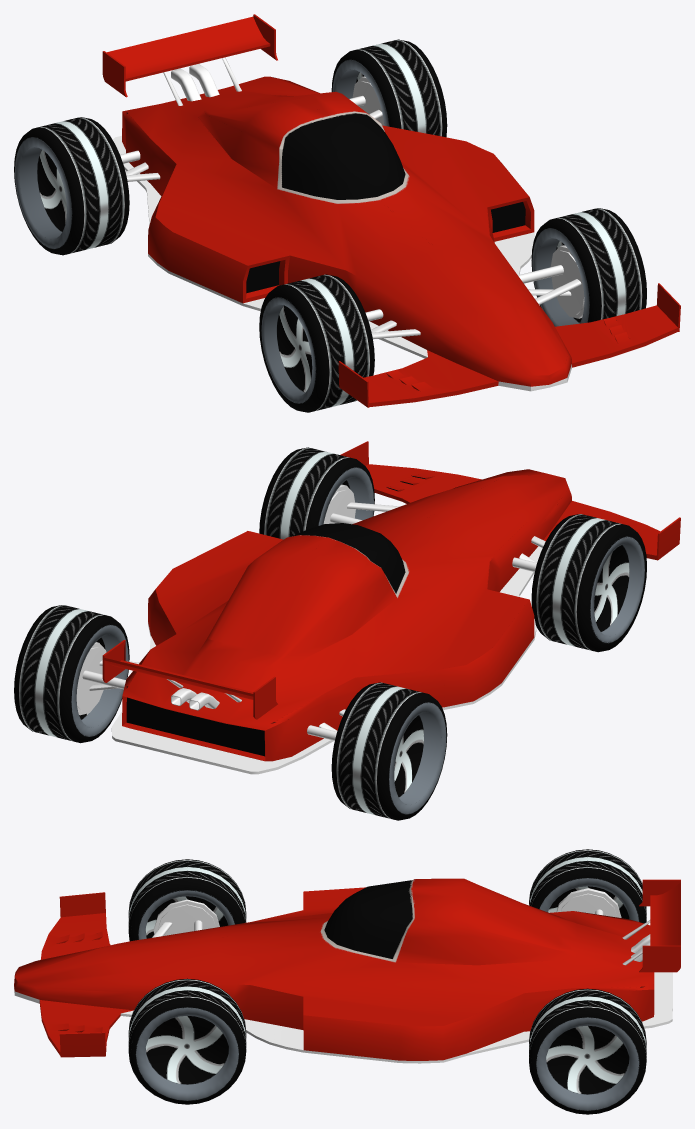
Rendered from CarModel_Grip.fbx.
3 views of the same model, one above another, from view 1: azimuth 30°, elevation 25°; view 2: azimuth 150°, elevation 25°; view 3: azimuth 270°, elevation 25° (orthographic). The views are drawn at different scales.
Visible parts, largest first — view 1: CarModel, Tire.002, Tire, Tire.001, Tire.003; view 2: CarModel, Tire.002, Tire, Tire.003, Tire.001; view 3: CarModel, Tire.001, Tire.003, Tire, Tire.002.
Part boxes in pixels (<box>): CarModel: <box>102,14,680,407</box>; Tire.002: <box>14,117,129,255</box>; Tire: <box>259,274,374,412</box>; Tire.001: <box>531,208,646,326</box>; Tire.003: <box>331,39,447,137</box>; CarModel: <box>76,441,680,774</box>; Tire.002: <box>331,682,447,820</box>; Tire: <box>531,514,646,652</box>; Tire.003: <box>14,605,129,743</box>; Tire.001: <box>259,447,374,539</box>; CarModel: <box>14,878,680,1063</box>; Tire.001: <box>128,978,246,1104</box>; Tire.003: <box>529,988,646,1114</box>; Tire: <box>128,859,246,941</box>; Tire.002: <box>529,849,646,923</box>.
Size of the model in its own units: 165 by 68.53 by 283.
3 materials, 2 textured.
